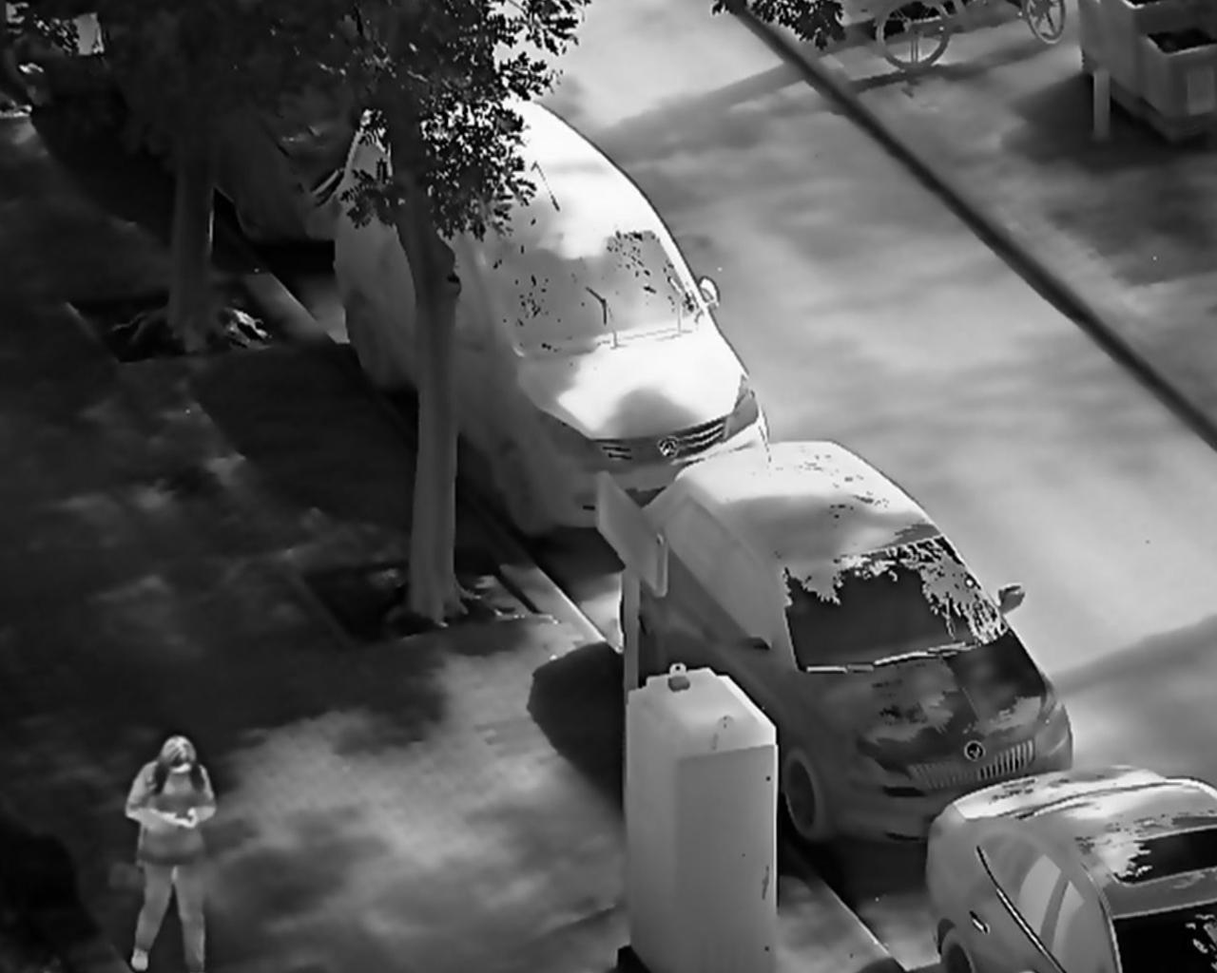person: (126, 730, 218, 973)
